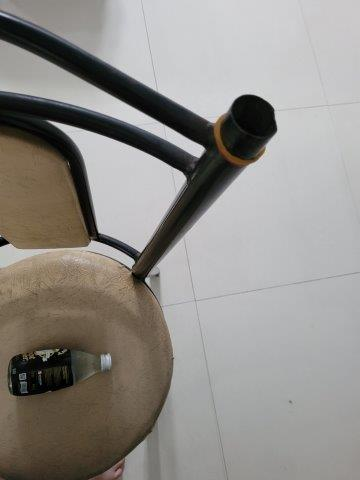botolkaca: (8, 348, 111, 395)
